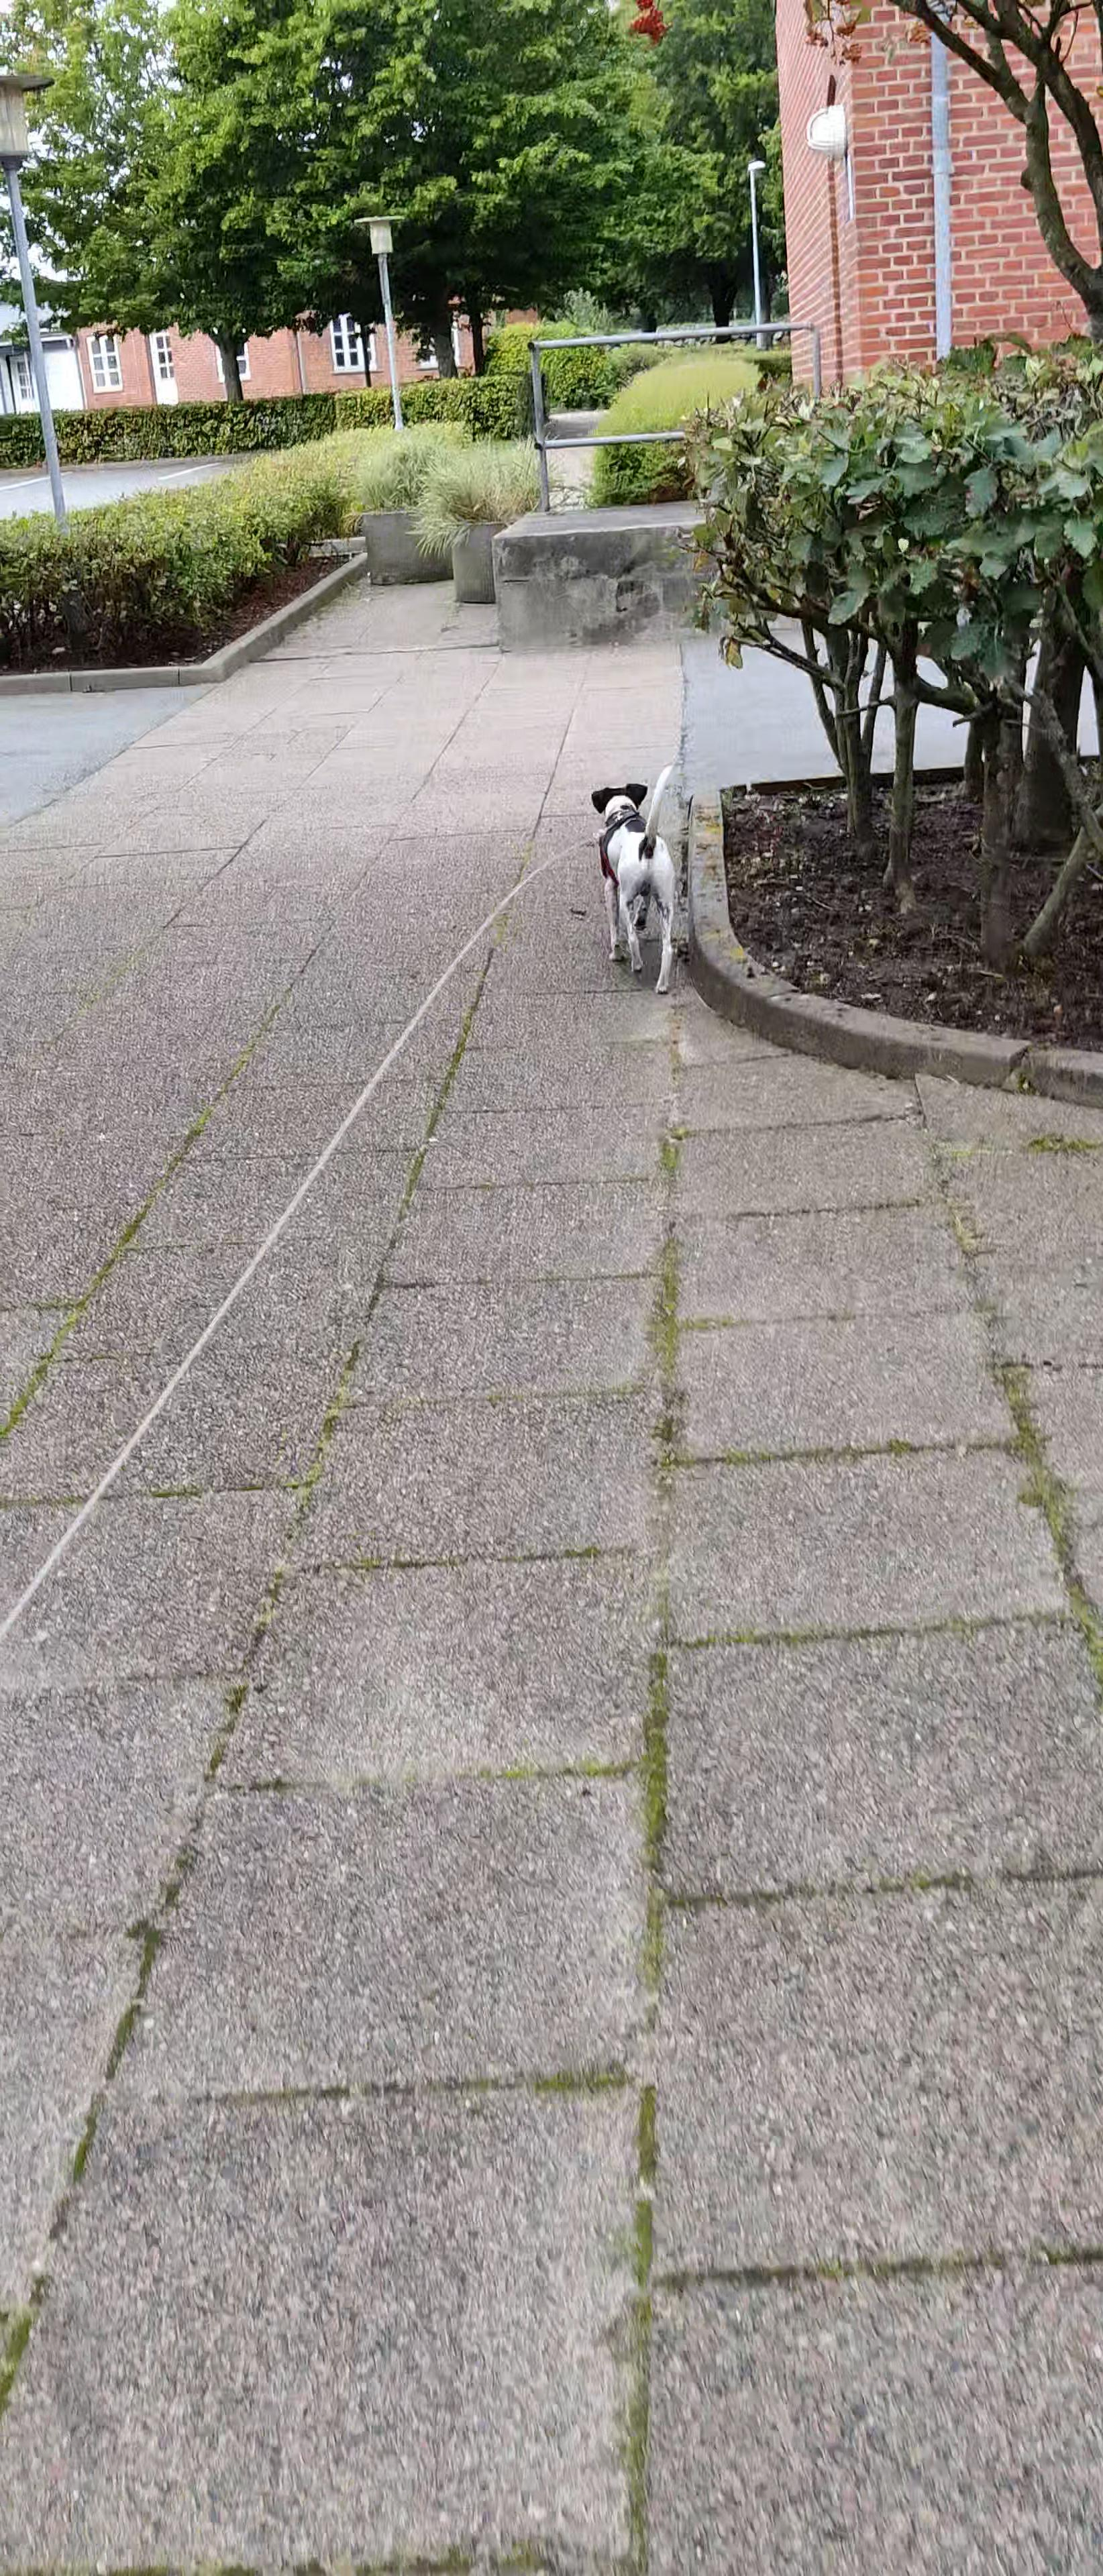Dog: (584, 761, 687, 996)
